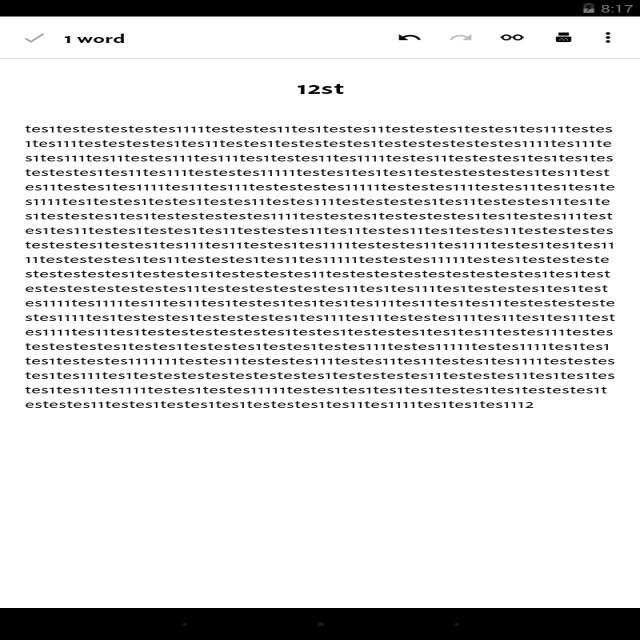ImageButton: (391, 27, 434, 45), (444, 28, 478, 46), (19, 28, 52, 46), (494, 29, 528, 45), (595, 28, 619, 47), (550, 30, 578, 46)
TextView: (18, 118, 620, 412), (286, 76, 365, 102)
